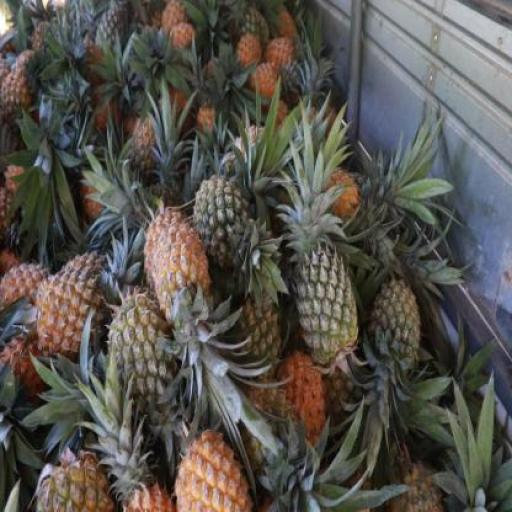------------------------------: (109, 296, 180, 406), (194, 178, 258, 277), (37, 443, 109, 512), (0, 67, 32, 126)
Pineapple - v8 v1: (40, 261, 110, 362), (174, 428, 251, 511), (161, 224, 221, 326), (144, 206, 194, 294), (2, 258, 50, 319), (252, 63, 287, 103), (268, 39, 296, 82), (237, 36, 263, 80)
